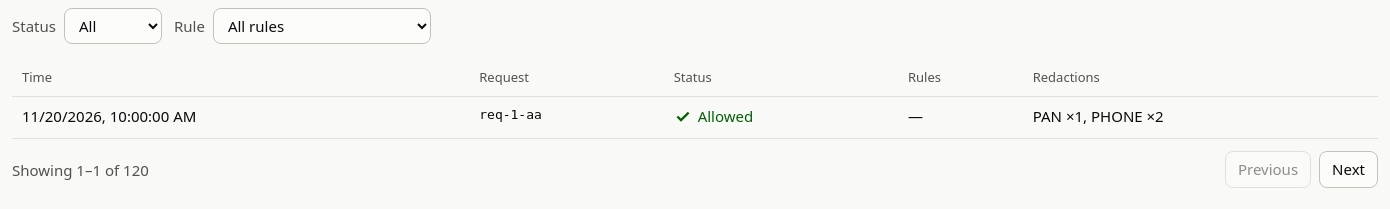
it: EventsView › paginates, disabling Previous on the first page and Next on the last
Expected: the text "Showing 1–1 of 120" is shown, [12,159,149,182]
Expected: the button "Previous" is disabled, [1225,151,1311,188]
Click the button "Next".
click(1349, 170)  # box [1319,151,1378,188]
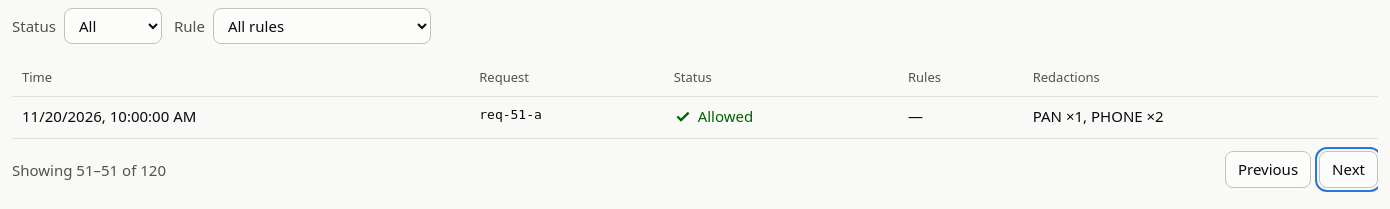
Click the button "Next".
click(1349, 170)  # box [1319,151,1378,188]
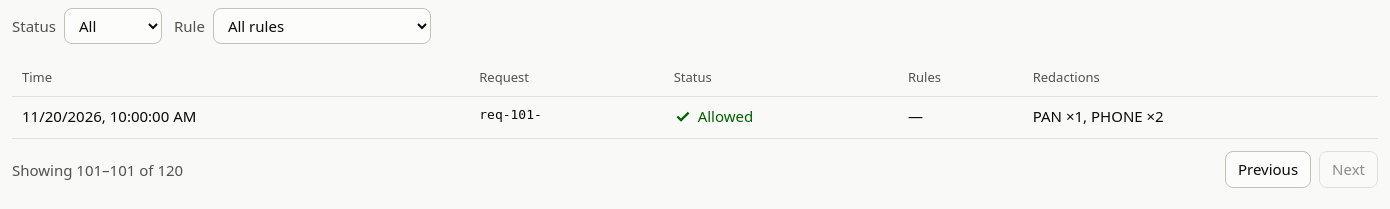
Now the text "Showing 101–101 of 120" is shown, box [12,159,183,182]
Now the button "Next" is disabled, box [1319,151,1378,188]
